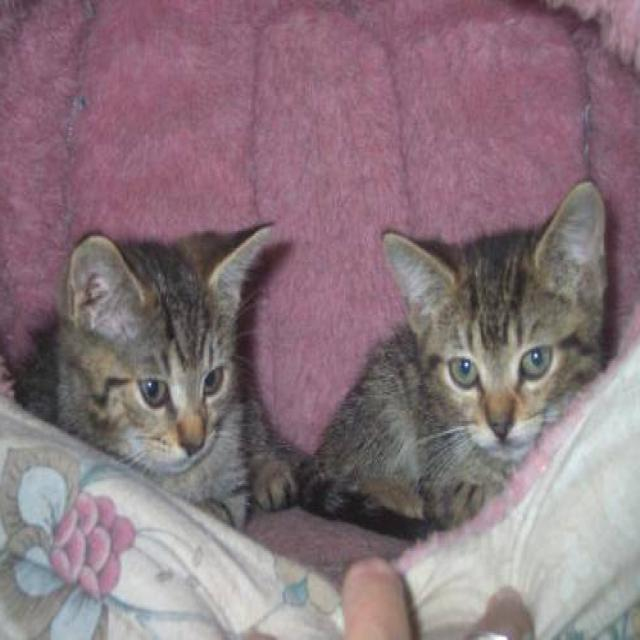Kucing: (316, 149, 624, 576), (11, 163, 305, 542)
